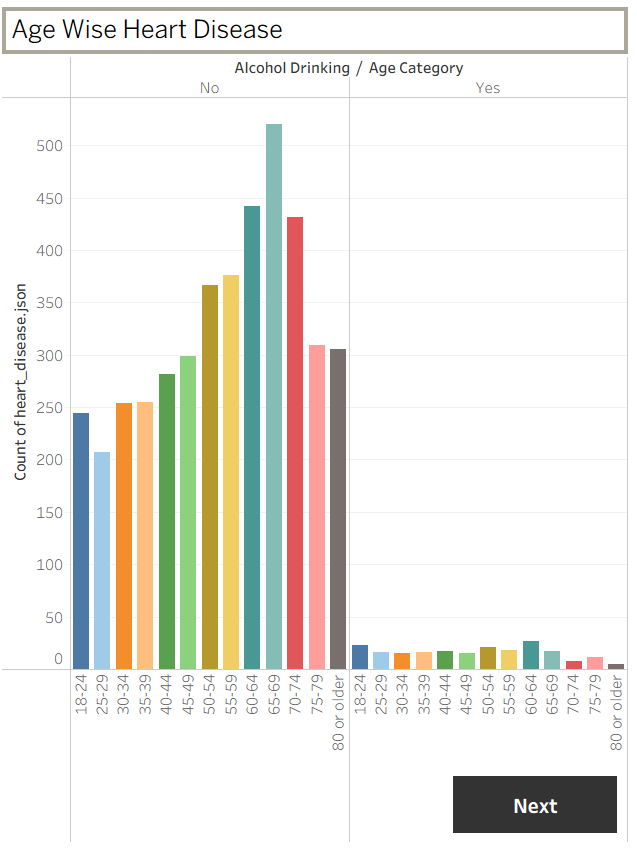

The dashboard page shown, as its layout file describes it:
{"tool":"tableau","page":{"name":"Dashboard 1","canvas":[650,860],"ordinal":0},"visuals":[{"type":"worksheet","title":"Sheet 1","mark":"Automatic","rows":["Calculation_1533040393302018"],"cols":["AlcoholDrinking","AgeCategory"],"box":[8,8,634,844]},{"type":"dashboard-object","box":[454,777.2,164,52.5]}]}

Visuals, with their boxes in screenshot pixels (x1, y1, x2, y2), scaled from the page's 650x860 canvas onto the 637x867 screenshot:
"Sheet 1" worksheet: {"left": 8, "top": 8, "right": 629, "bottom": 859}
dashboard-object: {"left": 445, "top": 784, "right": 606, "bottom": 836}
